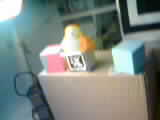duck: (47, 23, 97, 66)
